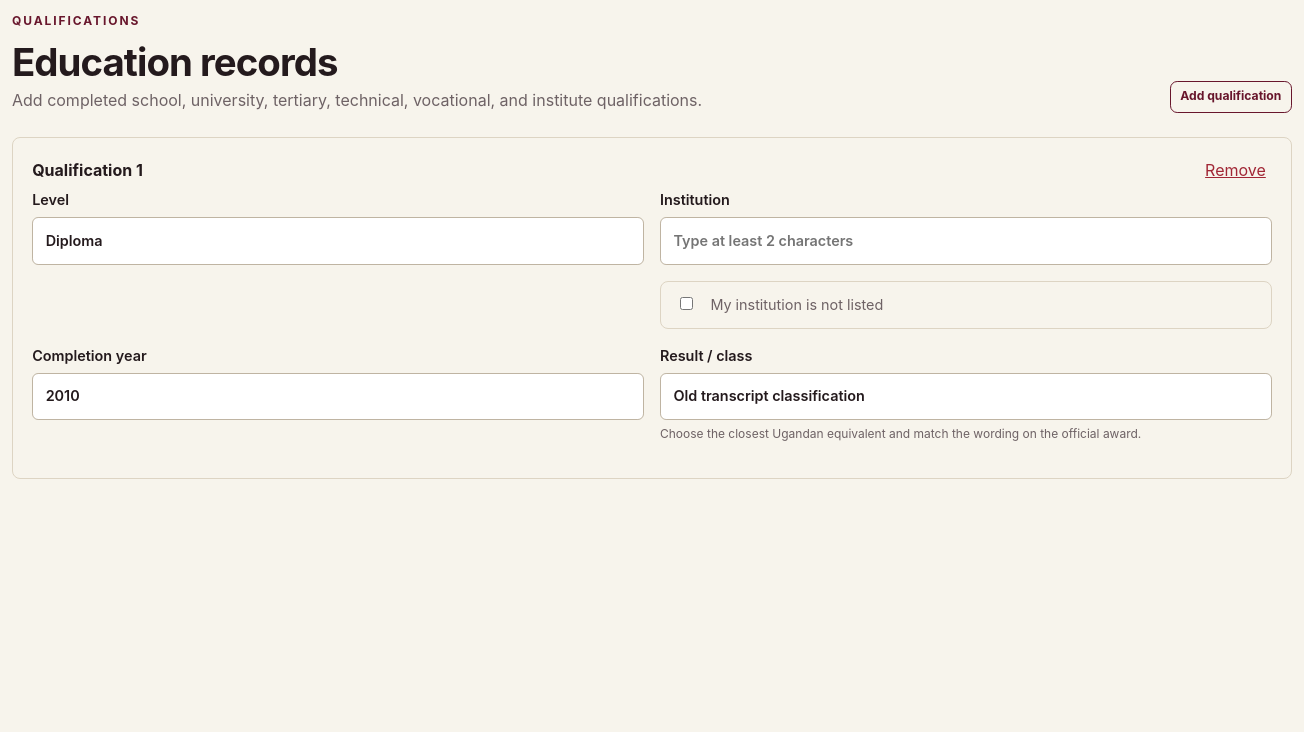
EducationRecordsForm › preserves a historical result attached to a recognised level
Expected: the dropdown labelled "Level" holds "Diploma", [32,217,644,265]
Focus the dropdown labelled "Result / class" at (966, 397), box [660,373,1272,420]
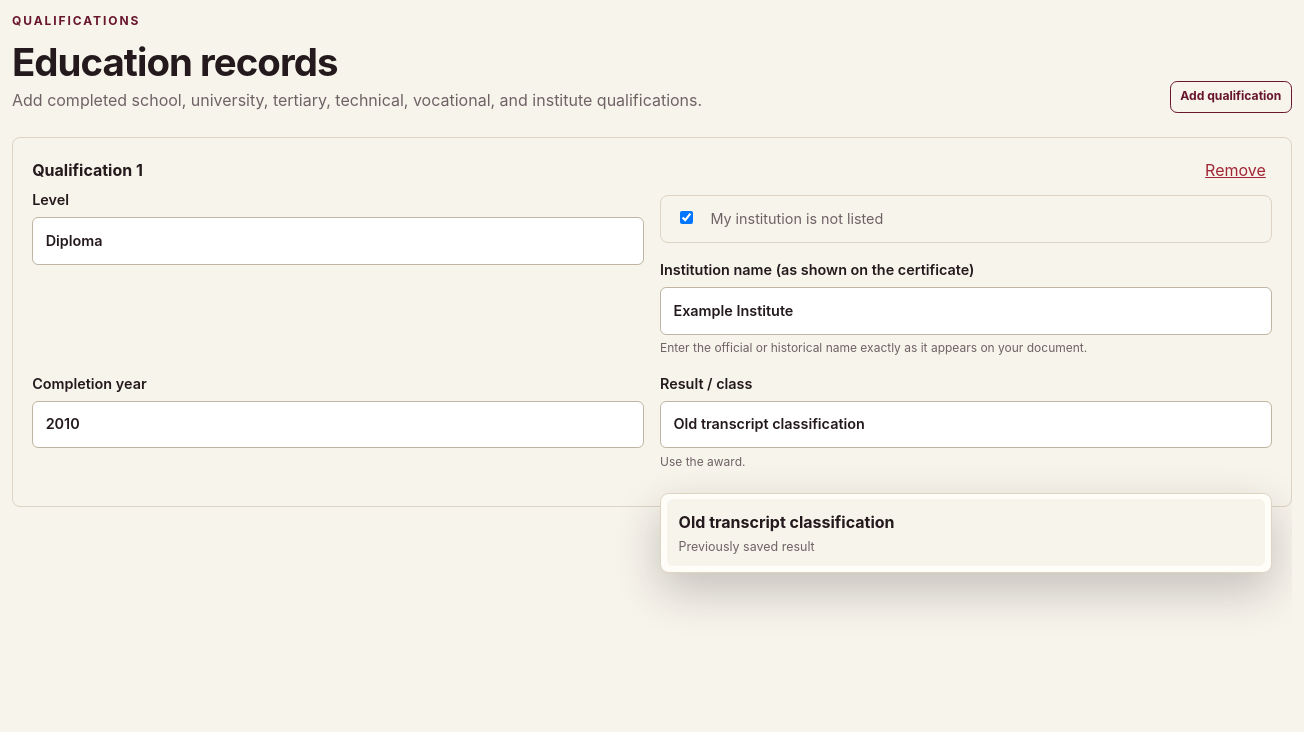
Now the option "Old transcript classification Previously saved result" is shown, box [667,499,1265,566]
